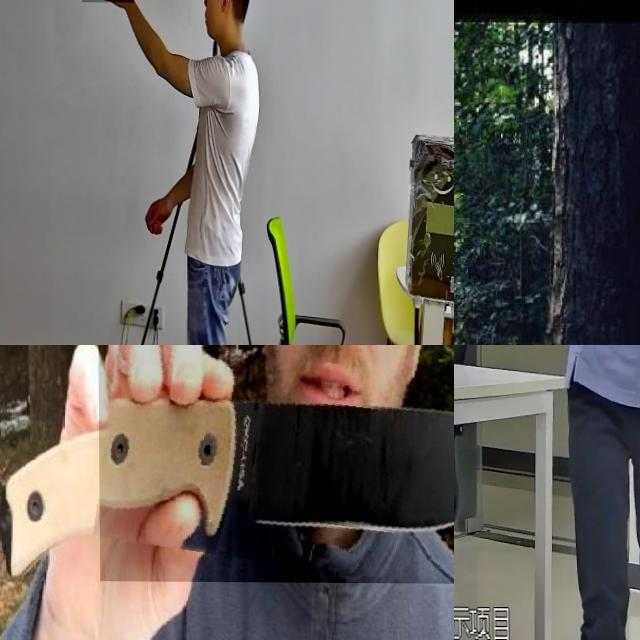-: (98, 345, 454, 584)
gun-knife-thesis - v11 Yolov5 augmented: (553, 345, 602, 409), (81, 0, 134, 36)
